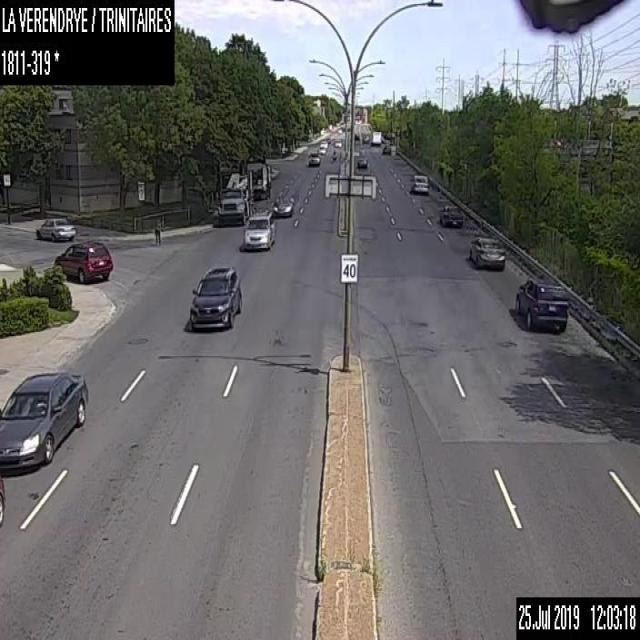pedestrian: (153, 216, 162, 245)
vehicle: (0, 371, 88, 470), (188, 264, 242, 329), (217, 161, 270, 226), (514, 274, 568, 330), (54, 239, 112, 282), (242, 209, 275, 249), (468, 236, 504, 270), (34, 216, 75, 241), (272, 191, 294, 216), (438, 203, 462, 225), (0, 470, 6, 525), (413, 173, 427, 192), (370, 128, 383, 144), (308, 151, 321, 165), (356, 156, 366, 167), (382, 144, 391, 155), (361, 133, 369, 144), (318, 144, 326, 154), (334, 137, 341, 146), (320, 140, 327, 147), (332, 148, 336, 160), (326, 136, 330, 142)
